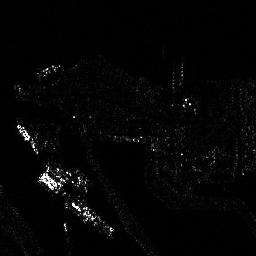ship: (15, 124, 39, 154)
